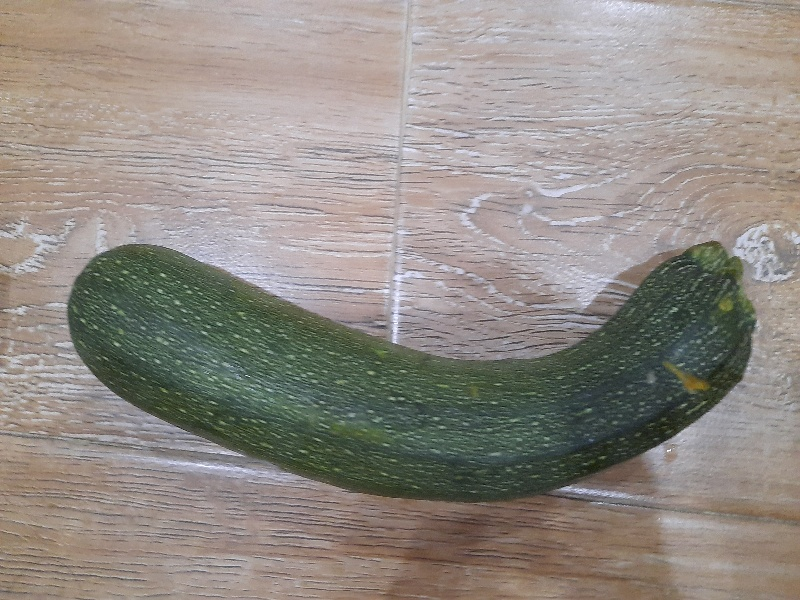vege: (65, 236, 769, 500)
